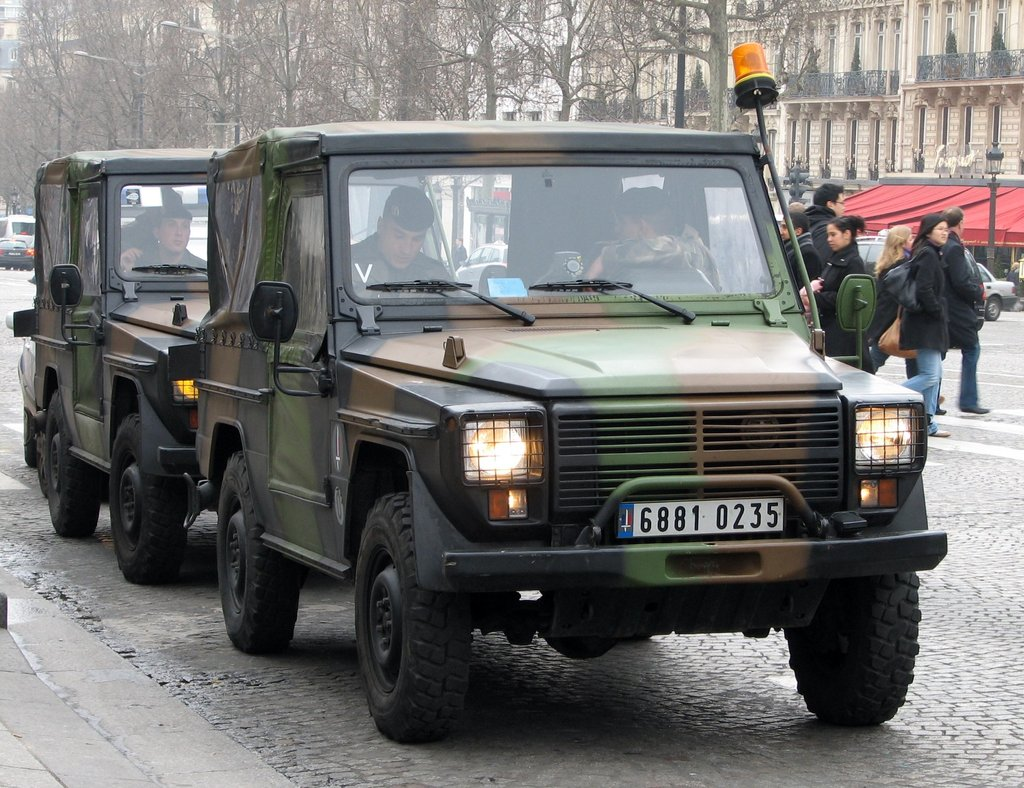Person: (575, 187, 725, 293), (349, 184, 457, 297), (899, 212, 951, 438), (802, 215, 874, 373), (945, 204, 991, 411), (872, 224, 916, 374), (120, 207, 208, 276), (804, 183, 847, 270), (776, 200, 809, 289)
